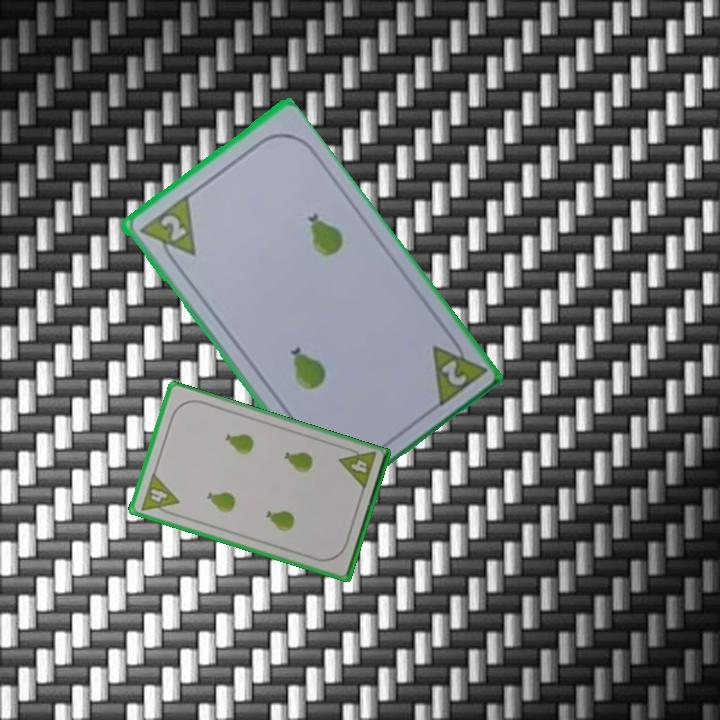2p: (427, 328, 487, 411), (156, 210, 189, 244)
4p: (137, 470, 182, 519), (336, 443, 379, 493)
